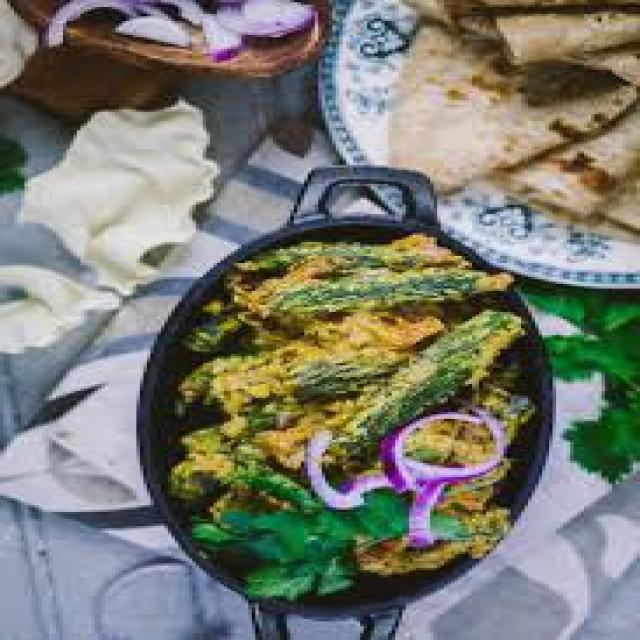Bhindi Masala: (160, 226, 540, 608)
